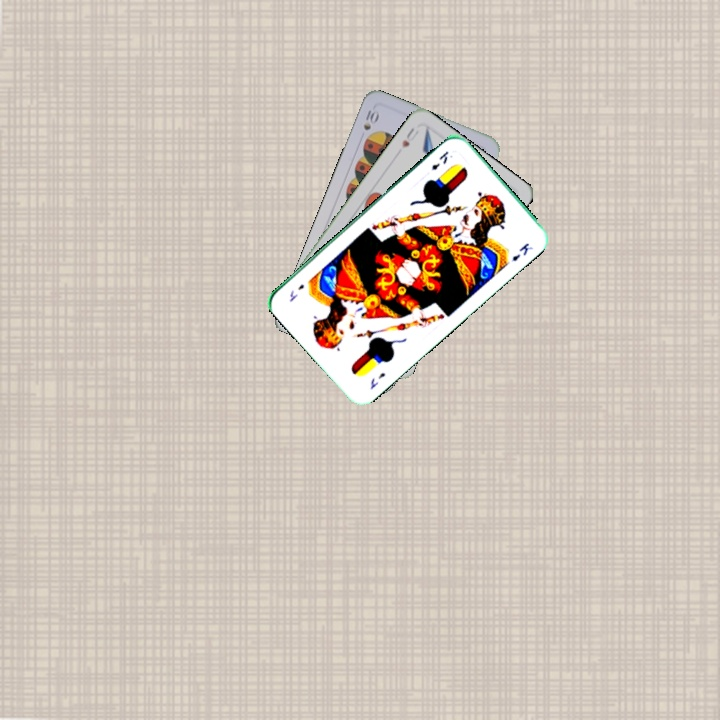EK: (427, 147, 451, 173), (366, 368, 388, 392)
HU: (398, 124, 421, 150)
S10: (359, 106, 382, 133)
